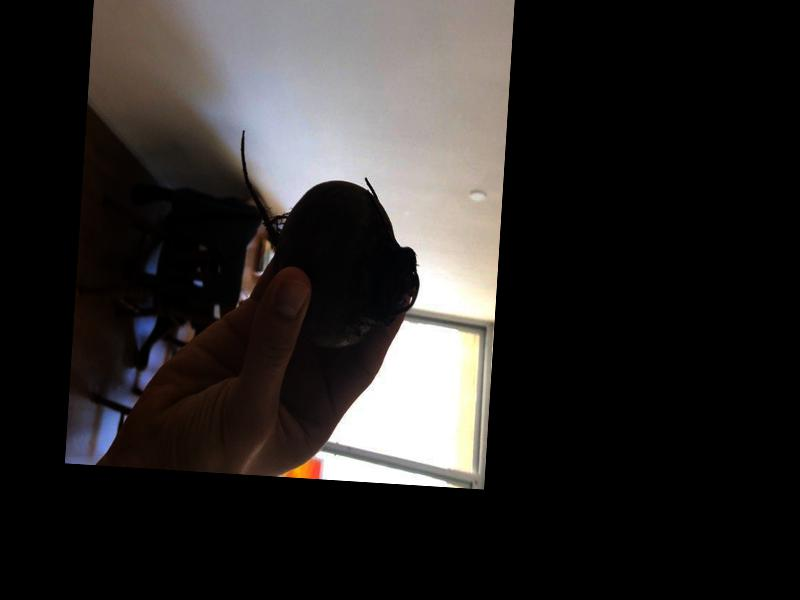Beet: (228, 130, 427, 352)
